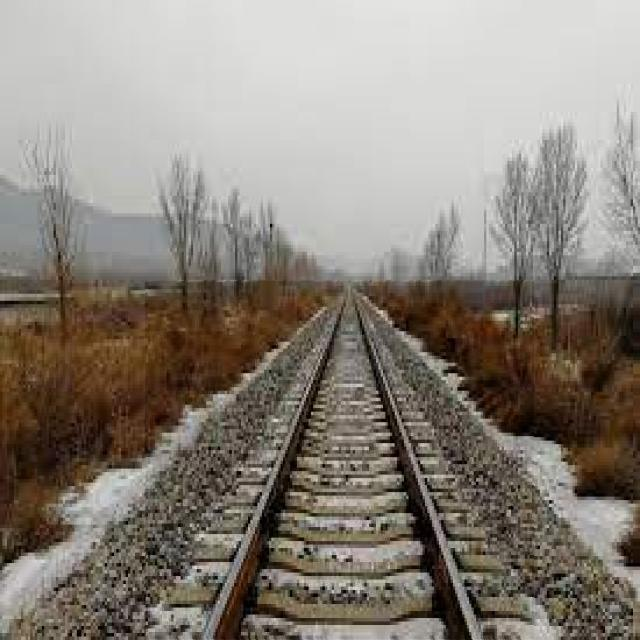rail: (148, 283, 535, 640)
